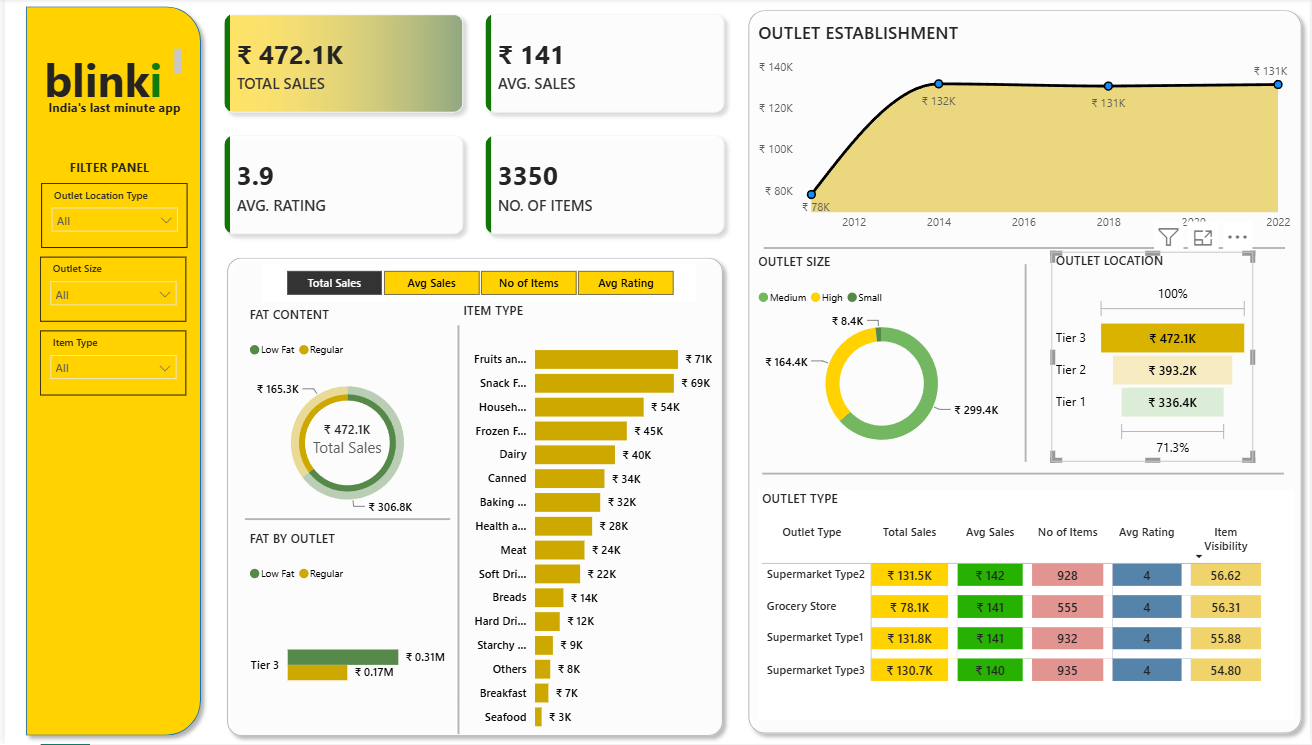

This screenshot's page, from the dashboard's own definition file:
{"tool":"powerbi","page":{"name":"Page 1","canvas":[1400,800],"ordinal":0},"visuals":[{"type":"shape","box":[12.9,0,205.7,800],"z":0},{"type":"textbox","box":[38,50,157,68],"z":1000},{"type":"textbox","box":[42.1,102.9,155.7,30],"z":2000},{"type":"cardVisual","fields":{"Data":["BlinkIT Grocery Data.Total Sales","BlinkIT Grocery Data.Avg Sales","BlinkIT Grocery Data.Avg Rating","BlinkIT Grocery Data.No of Items"]},"box":[218.6,0,570,270],"z":3000},{"type":"shape","box":[229.2,269.4,549.6,530.8],"z":4000},{"type":"donutChart","title":"FAT CONTENT","fields":{"Y":["BlinkIT Grocery Data.Total Sales"],"Category":["BlinkIT Grocery Data.Item Fat Content"]},"box":[257.1,330,220,240],"z":5000},{"type":"slicer","fields":{"Values":["Metrics.Metrics"]},"box":[275.7,285.7,465,40],"z":6000},{"type":"cardVisual","fields":{"Data":["BlinkIT Grocery Data.Total Sales"]},"box":[298.3,447.5,137.5,71.7],"z":7000},{"type":"clusteredBarChart","title":"FAT BY OUTLET","fields":{"Y":["BlinkIT Grocery Data.Total Sales"],"Category":["BlinkIT Grocery Data.Outlet Location Type"],"Series":["BlinkIT Grocery Data.Item Fat Content"]},"box":[256.9,570,220,230],"z":8000},{"type":"shape","box":[257.1,542.9,220,31.9],"z":9000},{"type":"shape","box":[477.3,350.9,18.2,438.2],"z":10000},{"type":"barChart","title":"ITEM TYPE","fields":{"Y":["BlinkIT Grocery Data.Total Sales"],"Category":["BlinkIT Grocery Data.Item Type"]},"box":[486.4,325.7,277.1,470.7],"z":11000},{"type":"shape","box":[788.8,3.8,611.2,793.8],"z":11001},{"type":"lineChart","title":"OUTLET ESTABLISHMENT","fields":{"Y":["BlinkIT Grocery Data.Total Sales"],"Category":["BlinkIT Grocery Data.Outlet Establishment Year"]},"box":[803,24.1,580.4,234.6],"z":11002},{"type":"shape","box":[813.7,253.4,559,29.5],"z":11003},{"type":"donutChart","title":"OUTLET SIZE","fields":{"Category":["BlinkIT Grocery Data.Outlet Size"],"Y":["BlinkIT Grocery Data.Total Sales"]},"box":[803,273.5,274.8,225.2],"z":11004},{"type":"shape","box":[1085.8,285.5,17.4,211.8],"z":11005},{"type":"funnel","title":"OUTLET LOCATION","fields":{"Category":["BlinkIT Grocery Data.Outlet Location Type"],"Y":["BlinkIT Grocery Data.Total Sales"]},"box":[1122,272.1,217.2,225.2],"z":11006},{"type":"shape","box":[812.3,494.6,559,30.8],"z":11007},{"type":"pivotTable","title":"OUTLET TYPE","fields":{"Values":["BlinkIT Grocery Data.Total Sales","BlinkIT Grocery Data.Avg Sales","BlinkIT Grocery Data.No of Items","BlinkIT Grocery Data.Avg Rating","Sum(BlinkIT Grocery Data.Item Visibility)"],"Rows":["BlinkIT Grocery Data.Outlet Type"]},"box":[807,526.8,575.1,248],"z":11008},{"type":"slicer","fields":{"Values":["BlinkIT Grocery Data.Outlet Location Type"]},"box":[38.9,198.4,156.8,69.7],"z":11009},{"type":"slicer","fields":{"Values":["BlinkIT Grocery Data.Outlet Size"]},"box":[37.5,277.5,156.8,69.7],"z":11010},{"type":"slicer","fields":{"Values":["BlinkIT Grocery Data.Item Type"]},"box":[37.5,356.6,156.8,69.7],"z":11011},{"type":"textbox","box":[64,168,105,30],"z":11012}]}

Visuals, with their boxes in screenshot pixels (x1, y1, x2, y2), scaled from the page's 1400x800 canvas onto the 1312x745 screenshot:
shape: (left=12, top=0, right=205, bottom=744)
textbox: (left=36, top=47, right=183, bottom=110)
textbox: (left=39, top=96, right=185, bottom=124)
cardVisual - BlinkIT Grocery Data.Total Sales x BlinkIT Grocery Data.Avg Sales: (left=205, top=0, right=739, bottom=251)
shape: (left=215, top=251, right=730, bottom=744)
"FAT CONTENT" donutChart: (left=241, top=307, right=447, bottom=531)
slicer - Metrics.Metrics: (left=258, top=266, right=694, bottom=303)
cardVisual - BlinkIT Grocery Data.Total Sales: (left=280, top=417, right=408, bottom=484)
"FAT BY OUTLET" clusteredBarChart: (left=241, top=531, right=447, bottom=744)
shape: (left=241, top=506, right=447, bottom=535)
shape: (left=447, top=327, right=464, bottom=735)
"ITEM TYPE" barChart: (left=456, top=303, right=716, bottom=742)
shape: (left=739, top=4, right=1311, bottom=743)
"OUTLET ESTABLISHMENT" lineChart: (left=753, top=22, right=1296, bottom=241)
shape: (left=763, top=236, right=1286, bottom=263)
"OUTLET SIZE" donutChart: (left=753, top=255, right=1010, bottom=464)
shape: (left=1018, top=266, right=1034, bottom=463)
"OUTLET LOCATION" funnel: (left=1051, top=253, right=1255, bottom=463)
shape: (left=761, top=461, right=1285, bottom=489)
"OUTLET TYPE" pivotTable: (left=756, top=491, right=1295, bottom=722)
slicer - BlinkIT Grocery Data.Outlet Location Type: (left=36, top=185, right=183, bottom=250)
slicer - BlinkIT Grocery Data.Outlet Size: (left=35, top=258, right=182, bottom=323)
slicer - BlinkIT Grocery Data.Item Type: (left=35, top=332, right=182, bottom=397)
textbox: (left=60, top=156, right=158, bottom=184)
